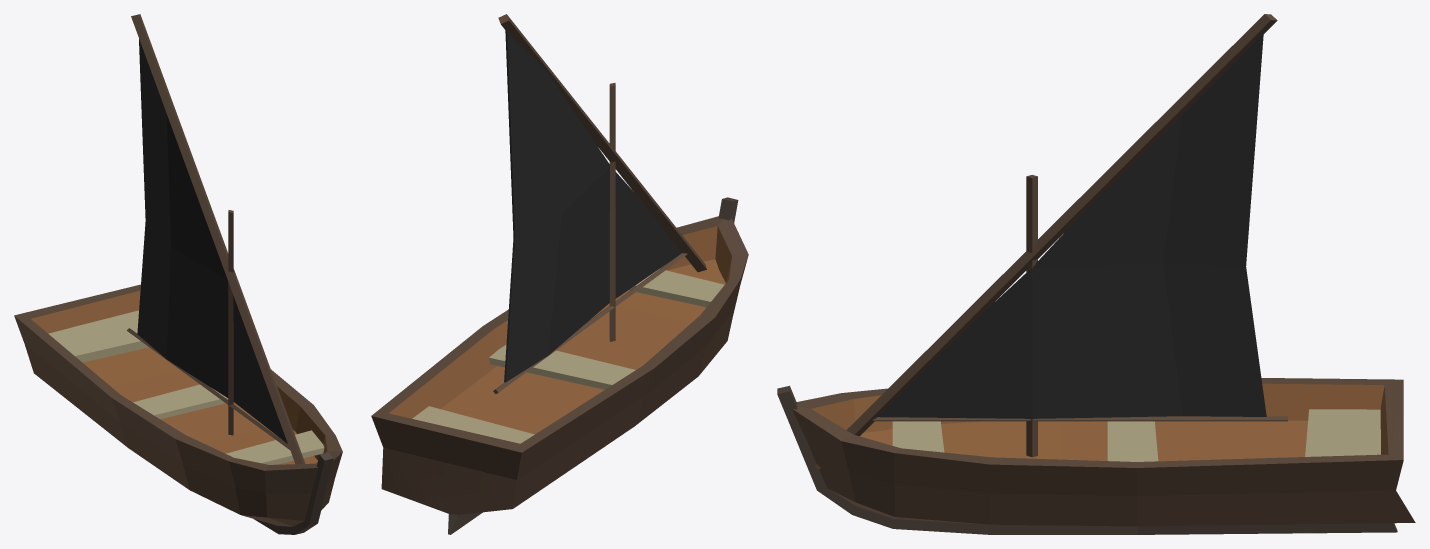
The model's file is sloop.obj.
3 renders of one model, left to right at view 1: azimuth 30°, elevation 25°; view 2: azimuth 150°, elevation 25°; view 3: azimuth 270°, elevation 25°, orthographic. The views are drawn at different scales.
Visible parts, largest first — view 1: Body, Sail, Mast; view 2: Body, Sail, Mast; view 3: Body, Sail, Mast.
Part boxes in pixels (x1=…): Body: x1=14, y1=284, x2=342, y2=534; Sail: x1=137, y1=39, x2=287, y2=443; Mast: x1=127, y1=14, x2=305, y2=464; Body: x1=371, y1=197, x2=748, y2=534; Sail: x1=504, y1=30, x2=681, y2=382; Mast: x1=493, y1=14, x2=706, y2=393; Body: x1=777, y1=378, x2=1415, y2=534; Sail: x1=877, y1=32, x2=1266, y2=418; Mast: x1=814, y1=14, x2=1287, y2=470.
Bounding box in the file's own units: 33.12 × 87.59 × 97.47.
1 material, 1 textured.
